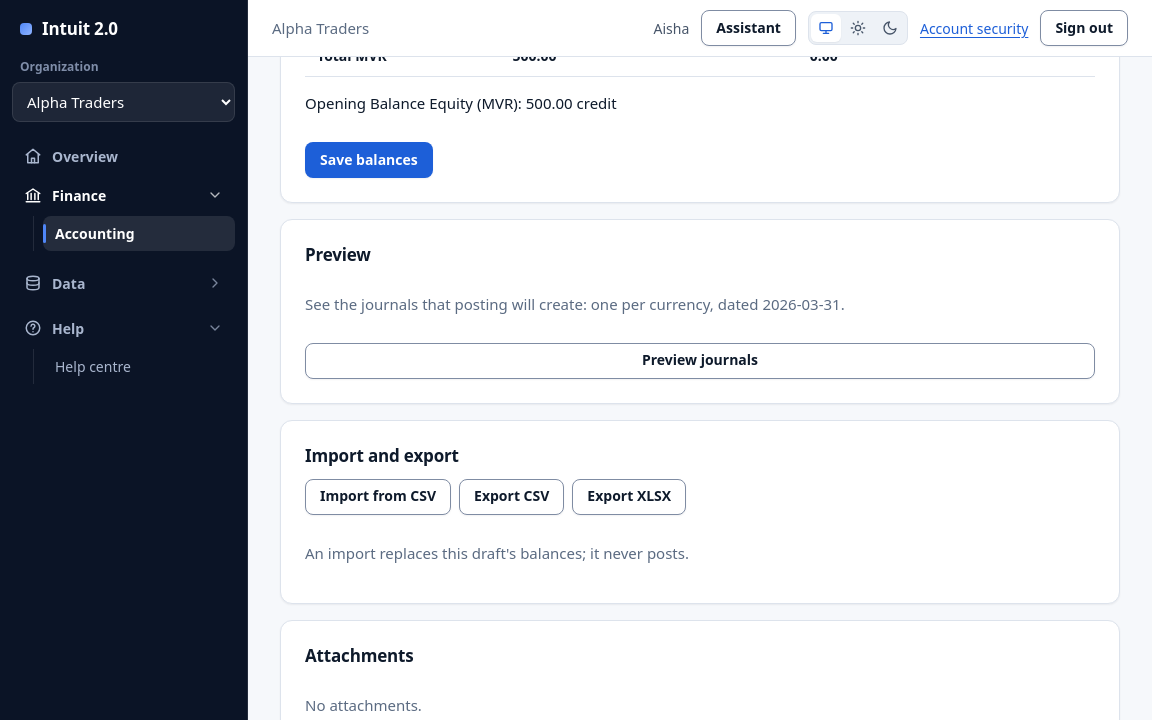
Scenario: opening balances grid › previews the per-currency journals and explains blocking errors
(page scrolled)
What coordinates should you click on to do the following:
click the button "Preview journals"
I would click on:
 (700, 361)
Its box is [305,343,1095,379].
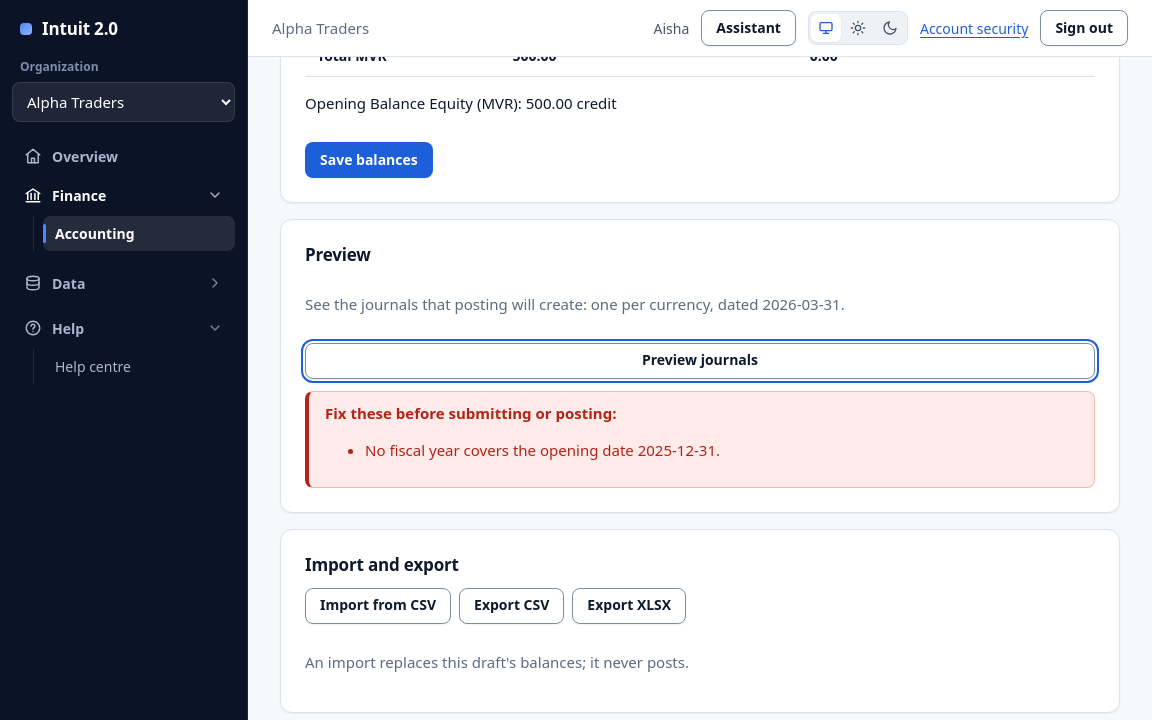
Check: the list item "No fiscal year covers the opening date 2025-12-31." is shown, box [365,440,720,460]
What coordinates should you click on to do the following:
click the button "Preview journals"
I would click on:
 (700, 361)
Its box is [305,343,1095,379].
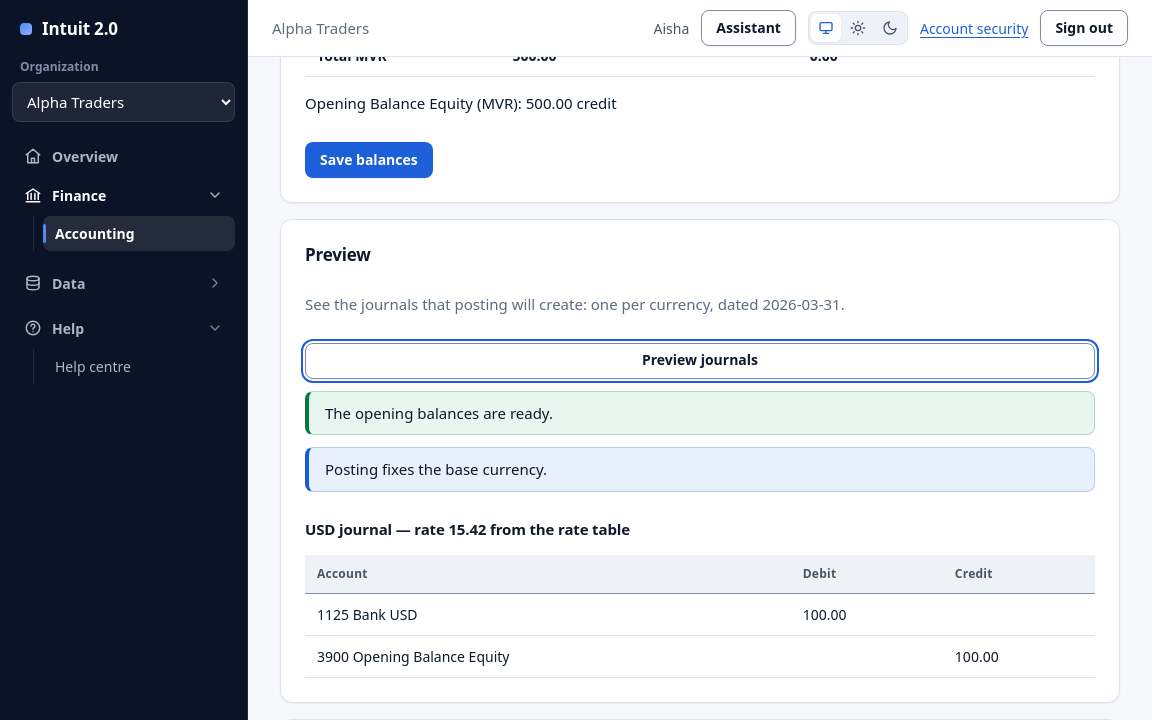
Check: the heading "USD journal — rate 15.42 from the rate table" is shown, box [305,519,630,539]
Check: the text "Posting fixes the base currency." is shown, box [305,447,1095,492]
Check: the text "The opening balances are ready." is shown, box [305,391,1095,435]
